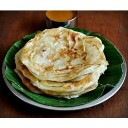parota: (21, 27, 103, 80)
